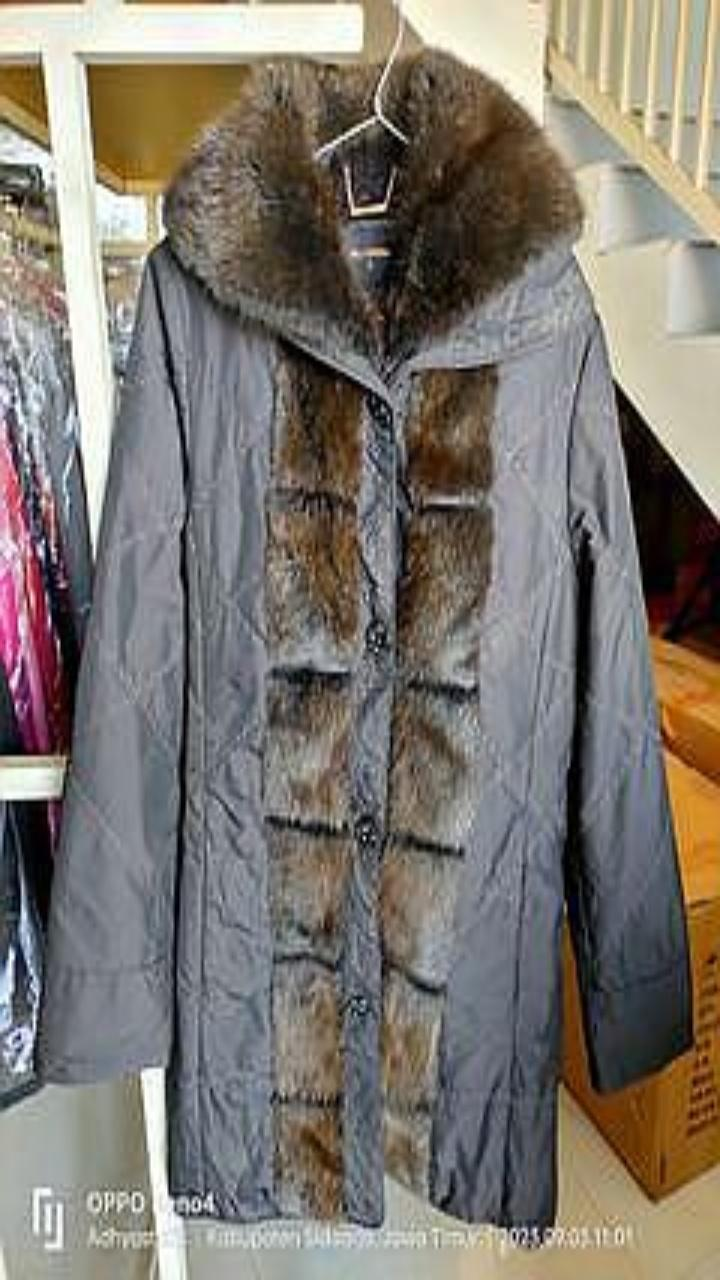Coat: (40, 49, 691, 1238)
